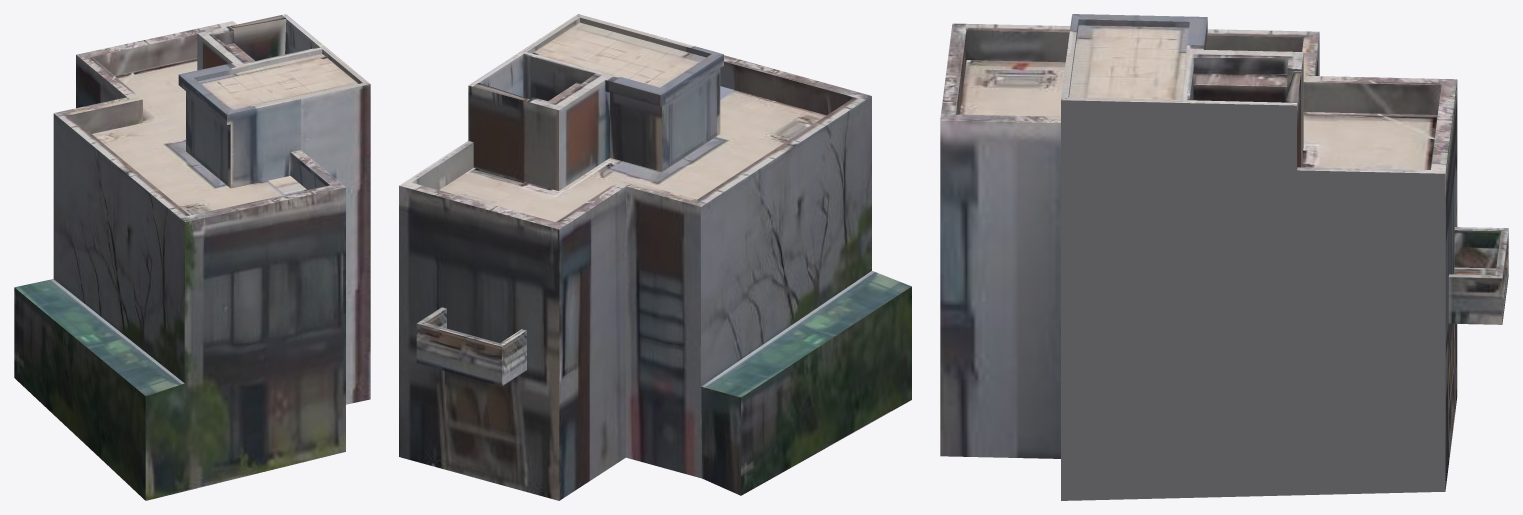
3 views of the same model, side by side, from view 1: azimuth 30°, elevation 25°; view 2: azimuth 150°, elevation 25°; view 3: azimuth 270°, elevation 25° (orthographic). The views are drawn at different scales.
Parts seen in each view (by area): view 1: B282824031001062A0; view 2: B282824031001062A0; view 3: B282824031001062A0.
Boxes of the visible parts, x1,y1,x2,y2 form: B282824031001062A0: [14, 14, 370, 500]; B282824031001062A0: [399, 14, 911, 500]; B282824031001062A0: [940, 14, 1508, 500].
Bounding box in the file's own units: 10.78 × 11.82 × 14.91.
Materials: 2 (2 with a texture image).
